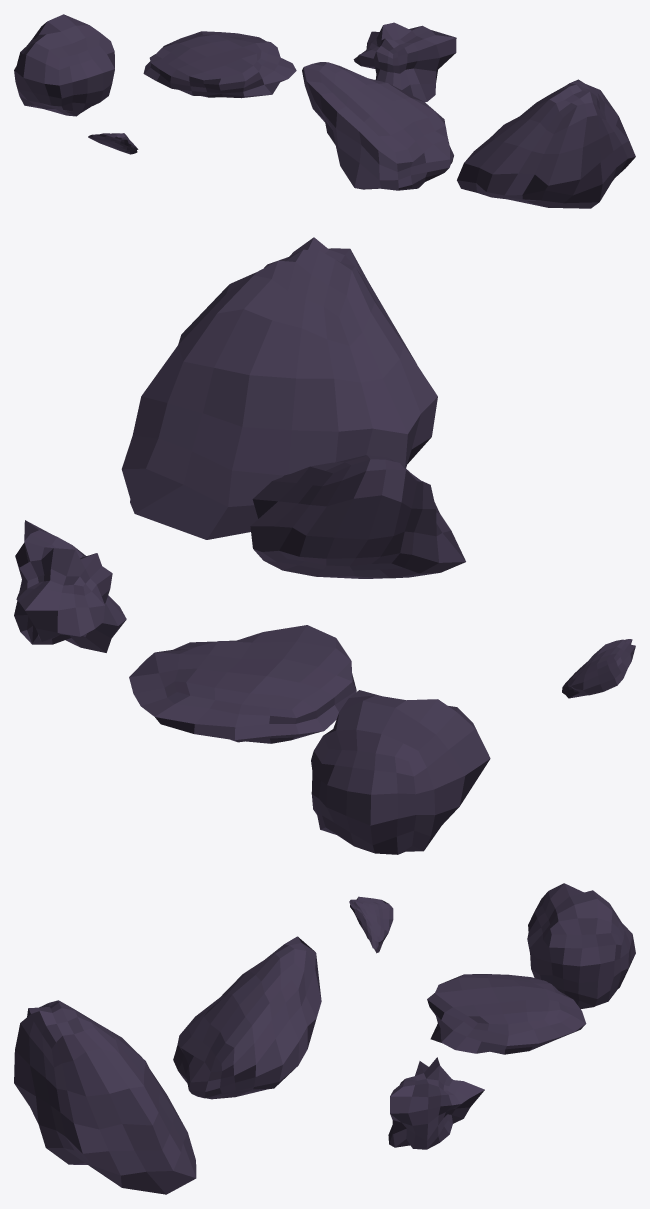
File: single_rocks.FBX
3 renders of one model, top to bottom at view 1: azimuth 30°, elevation 25°; view 2: azimuth 150°, elevation 25°; view 3: azimuth 270°, elevation 25°, orthographic. The views are drawn at different scales.
Parts seen in each view (by area): view 1: roca 6, roca 5, roca 1, roca 2, roca 4, roca 3; view 2: roca 6, roca 1, roca 5, roca 2, roca 4, roca 3; view 3: roca 6, roca 5, roca 2, roca 1, roca 4, roca 3.
Part boxes in pixels (bbox=[...]): roca 6: bbox=[457, 79, 635, 208]; roca 5: bbox=[302, 62, 453, 190]; roca 1: bbox=[14, 14, 114, 116]; roca 2: bbox=[143, 31, 296, 98]; roca 4: bbox=[353, 22, 456, 101]; roca 3: bbox=[88, 133, 138, 154]; roca 6: bbox=[121, 237, 437, 539]; roca 1: bbox=[311, 690, 490, 854]; roca 5: bbox=[250, 455, 465, 578]; roca 2: bbox=[129, 625, 356, 743]; roca 4: bbox=[14, 520, 126, 652]; roca 3: bbox=[562, 639, 635, 698]; roca 6: bbox=[14, 1000, 196, 1194]; roca 5: bbox=[173, 936, 321, 1099]; roca 2: bbox=[427, 974, 586, 1054]; roca 1: bbox=[527, 883, 635, 1008]; roca 4: bbox=[388, 1057, 484, 1149]; roca 3: bbox=[349, 896, 393, 953].
Bounding box in the file's own units: 61.07 × 19.45 × 71.06.
